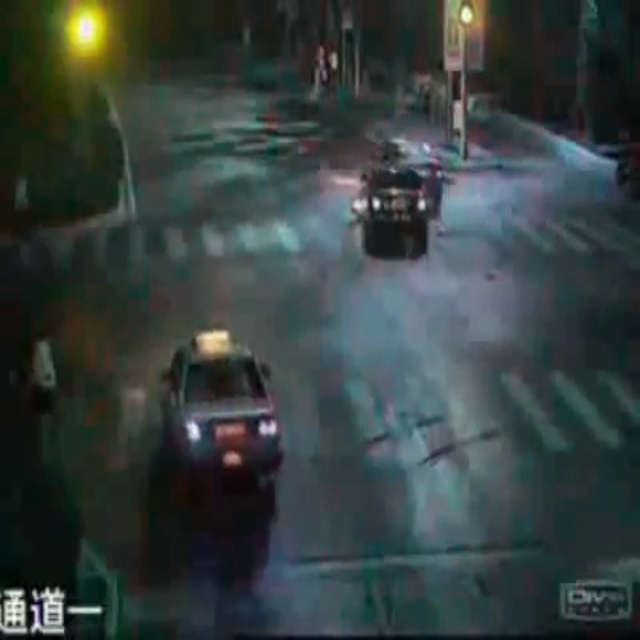acc: (342, 130, 449, 261)
